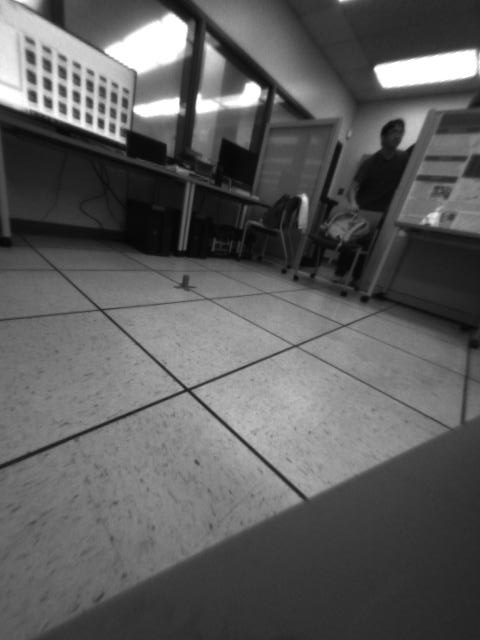X: (172, 272, 196, 293)
